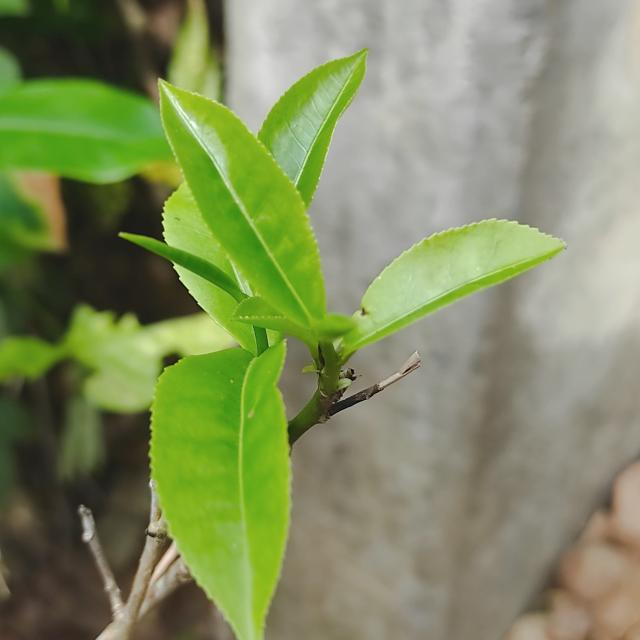unopened_leaf: (107, 218, 268, 356), (298, 307, 376, 355)
